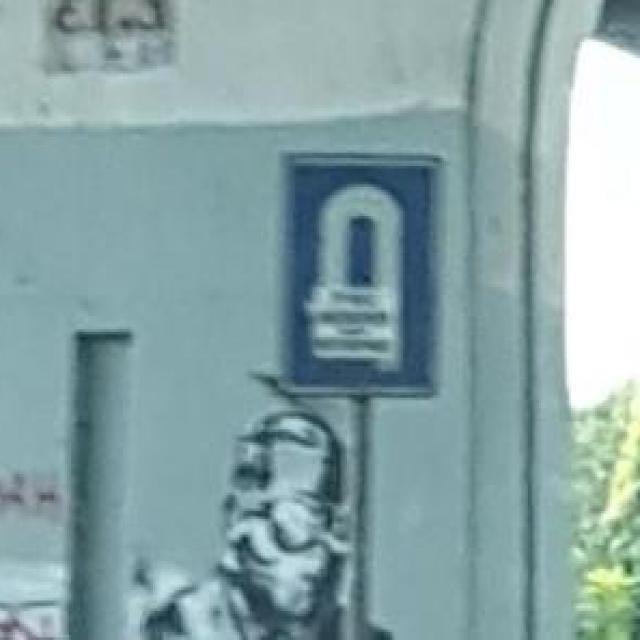U-turn: (284, 156, 425, 390)
